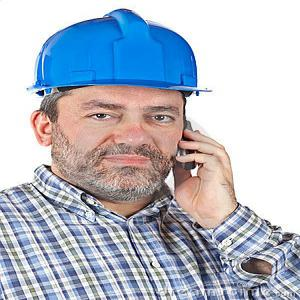blue: (29, 12, 210, 202)
